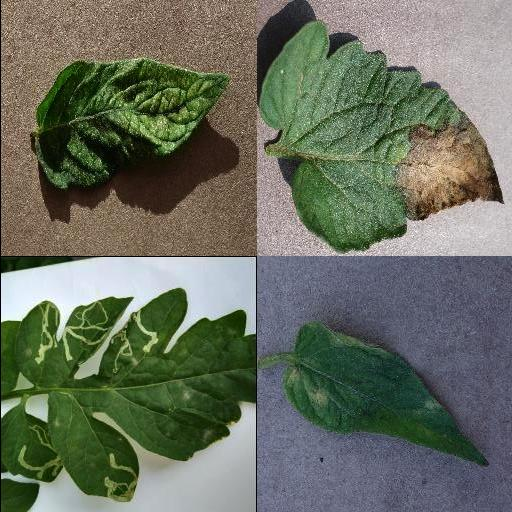Late Blight: (256, 17, 506, 253)
Leaf Miner: (15, 287, 256, 502), (0, 404, 63, 483)
Leaf Mold: (284, 326, 488, 467)
Spider Mites: (37, 58, 229, 188)
